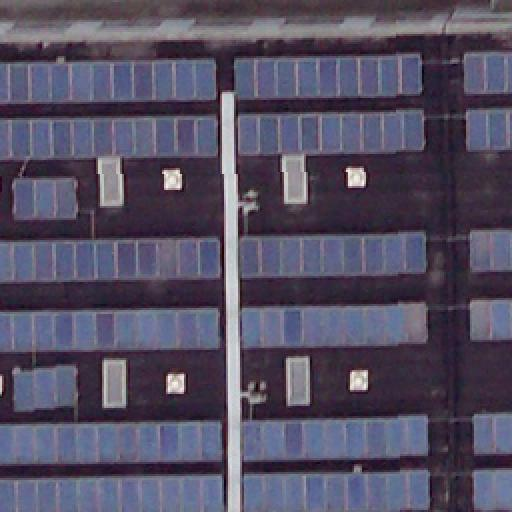solar-panel: (1, 415, 223, 465), (0, 116, 216, 164), (1, 60, 215, 108), (0, 305, 220, 351), (0, 237, 218, 283), (241, 414, 431, 462), (237, 302, 427, 350), (234, 53, 422, 99), (1, 473, 223, 511), (237, 234, 427, 278), (233, 112, 423, 156), (242, 472, 430, 512), (12, 363, 76, 413), (12, 178, 76, 222), (464, 108, 512, 152), (464, 52, 512, 96), (468, 299, 512, 341), (472, 465, 512, 511), (465, 230, 511, 270), (472, 412, 512, 456)
